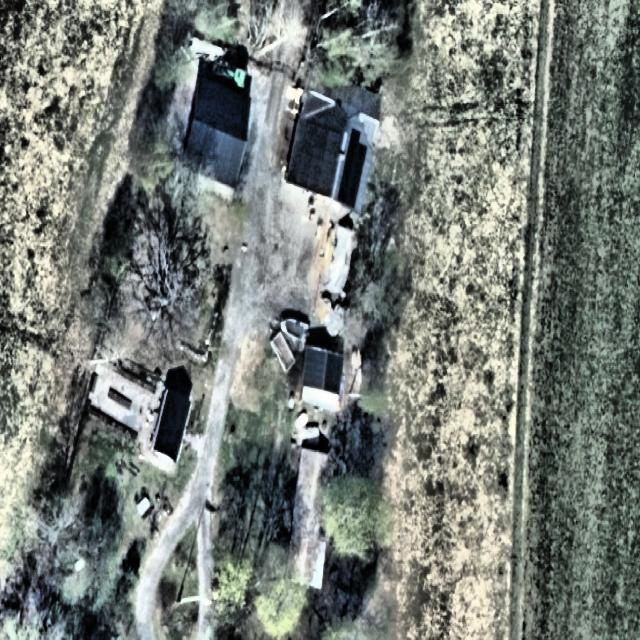roof_pv: (337, 125, 369, 208)
